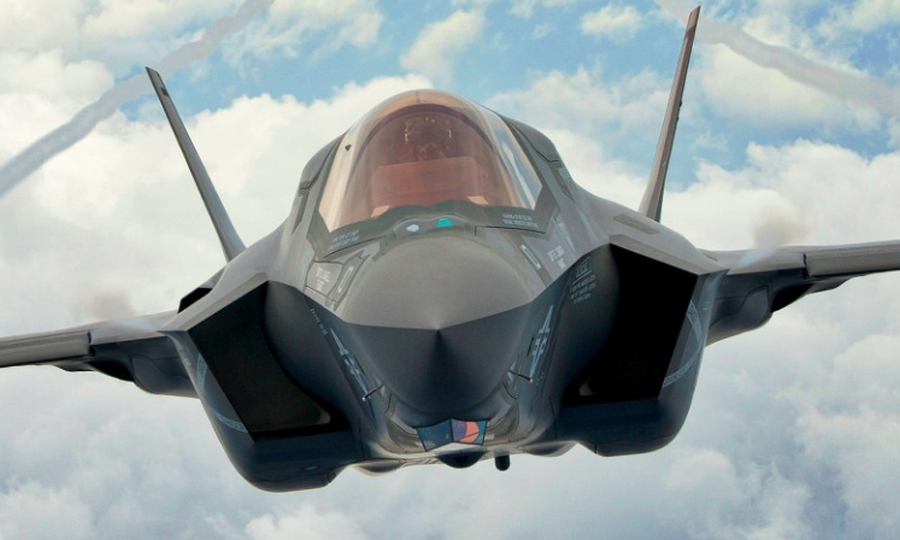F-35 Lightning: (65, 11, 848, 508)
